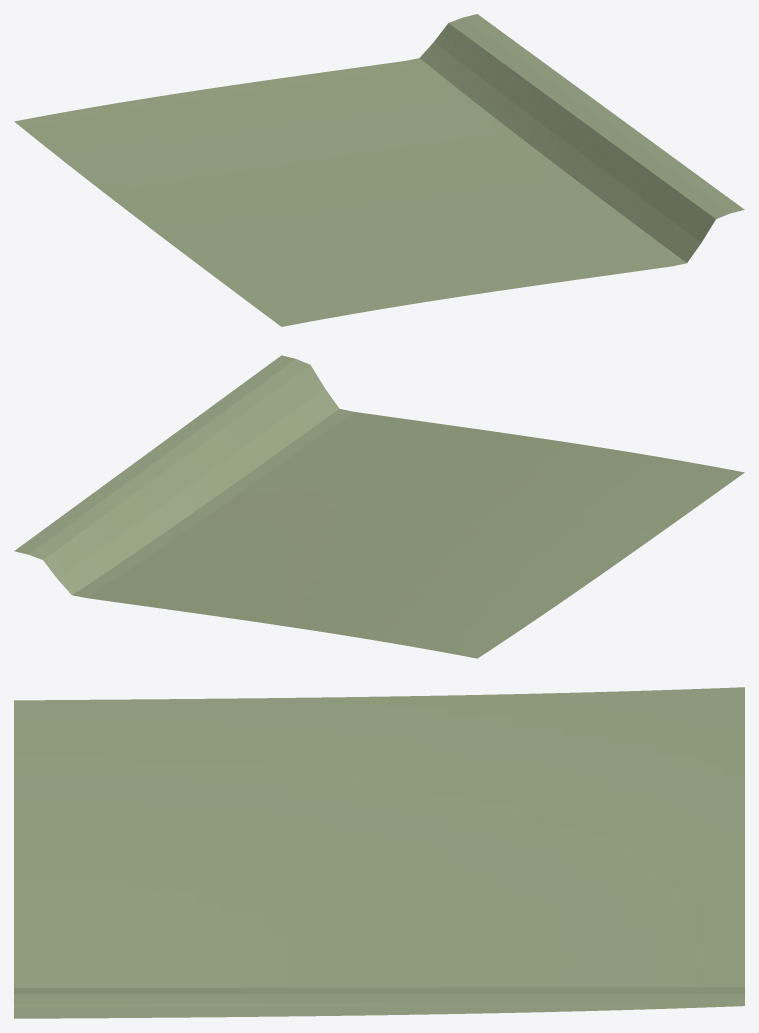
File: valley-7-4.glb
The picture shows the model from 3 angles, top to bottom: view 1: azimuth 30°, elevation 25°; view 2: azimuth 150°, elevation 25°; view 3: azimuth 270°, elevation 25°; orthographic projection. The views are drawn at different scales.
Visible parts, largest first — view 1: valley-7-4; view 2: valley-7-4; view 3: valley-7-4.
Boxes of the visible parts, x1,y1,x2,y2 form: valley-7-4: (14,14,744,326); valley-7-4: (14,355,744,658); valley-7-4: (14,687,744,1018).
Bounding box in the file's own units: 256 × 23.68 × 256.
